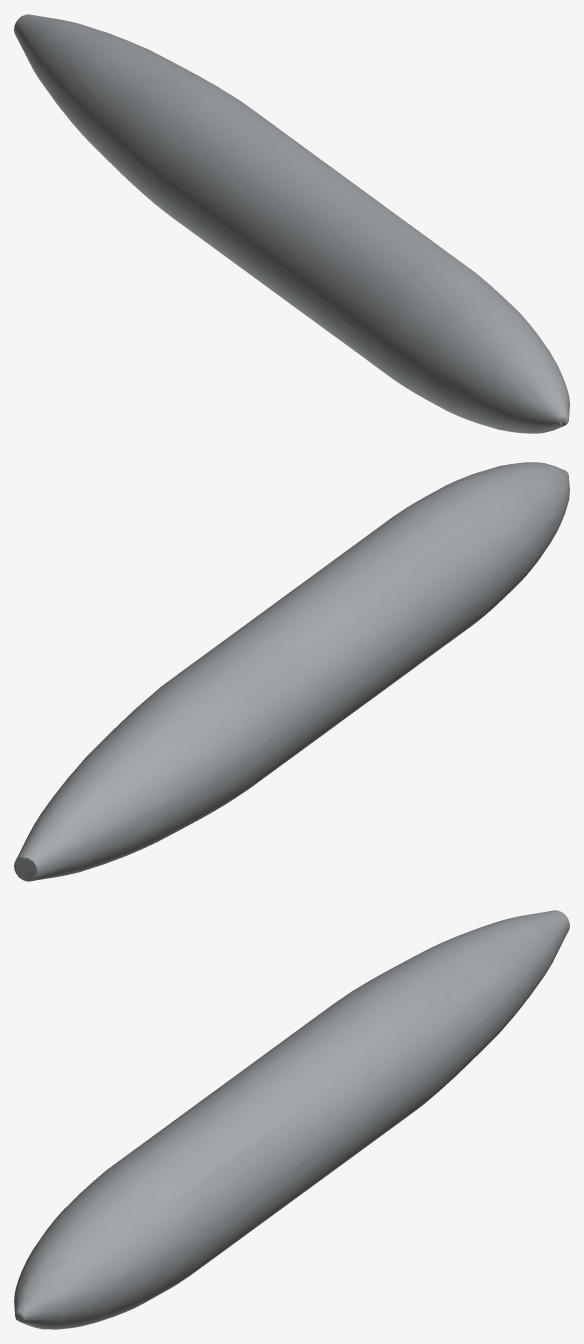
Rendered from ptb1150.glb.
3 views of the same model, one above another, from view 1: azimuth 30°, elevation 25°; view 2: azimuth 150°, elevation 25°; view 3: azimuth 330°, elevation 25° (orthographic).
Parts seen in each view (by area): view 1: airframe; view 2: airframe; view 3: airframe.
Part boxes in pixels (x1,y1,x2,y2): airframe: (14,14,569,433); airframe: (14,462,569,881); airframe: (14,910,569,1329).
Size of the model in its own units: 0.6464 by 0.6465 by 5.17.
1 material, 1 textured.
